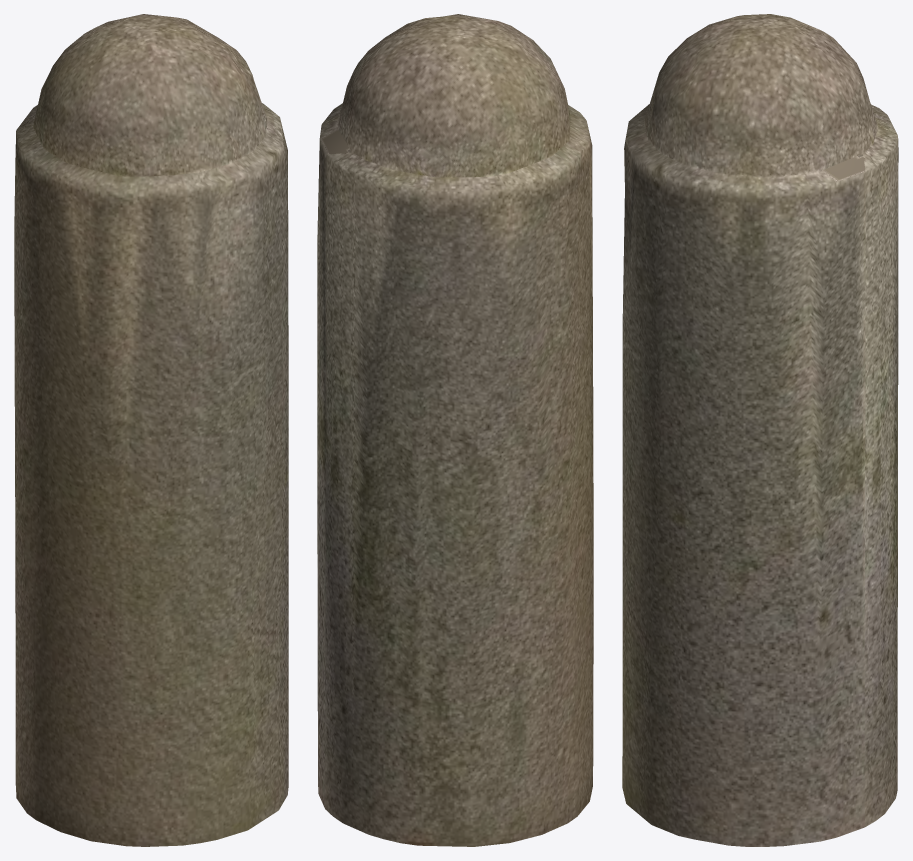
Rendered from bollard-concrete.glb.
3 views of the same model, side by side, from view 1: azimuth 30°, elevation 25°; view 2: azimuth 150°, elevation 25°; view 3: azimuth 270°, elevation 25° (orthographic).
Parts seen in each view (by area): view 1: Object_2; view 2: Object_2; view 3: Object_2.
Part boxes in pixels (x1,y1,x2,y2): Object_2: (14, 14, 288, 846); Object_2: (317, 14, 593, 846); Object_2: (622, 14, 898, 846).
Bounding box in the file's own units: 0.2939 × 0.8997 × 0.2949.
1 material, 1 textured.
